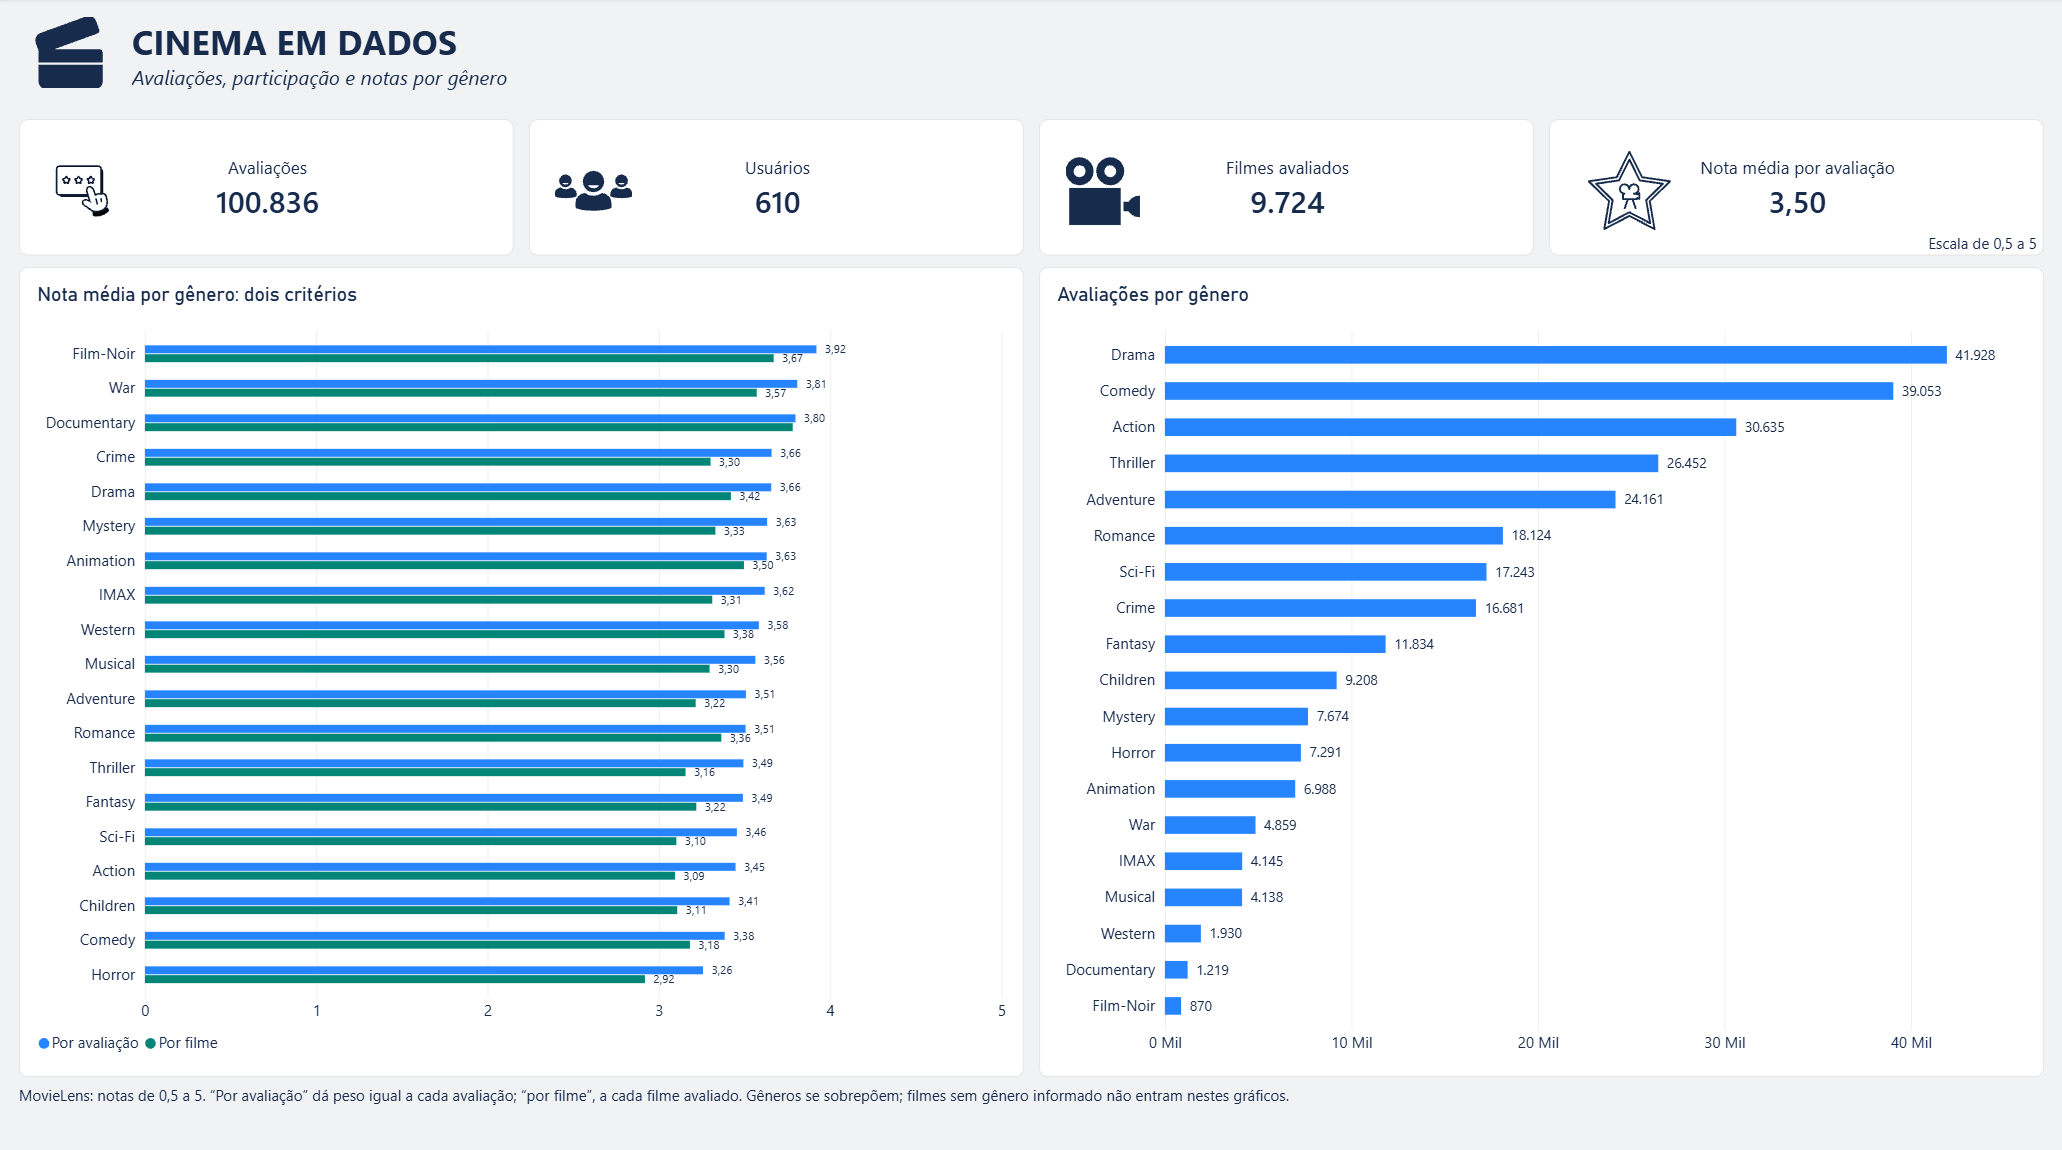

What the dashboard file says about the page in this screenshot:
{"tool":"powerbi","page":{"name":"Avaliação do público","canvas":[1920,1080],"ordinal":1},"visuals":[{"type":"cardVisual","fields":{"Data":["filmes_tmdb.Filmes Avaliados Cartao"]},"box":[966.6,112.5,460.1,127.3],"z":0},{"type":"cardVisual","fields":{"Data":["filmes_tmdb.Avaliacoes Cartao"]},"box":[18.6,112.5,460.1,127.3],"z":1000},{"type":"cardVisual","fields":{"Data":["filmes_tmdb.Usuarios Cartao"]},"box":[492.6,112.5,460.1,127.3],"z":2000},{"type":"cardVisual","fields":{"Data":["filmes_tmdb.Nota Media Cartao"]},"box":[1440.6,112.5,460.1,127.3],"z":3000},{"type":"textbox","box":[18.6,1010.3,1882.1,58.6],"z":4000},{"type":"textbox","box":[123.6,17.7,1432.3,92.9],"z":5000},{"type":"image","box":[18.6,17.7,95.7,66],"z":6000},{"type":"image","box":[506.5,143.4,92,71.6],"z":7000},{"type":"image","box":[41.8,146.6,72.5,65.1],"z":8000},{"type":"image","box":[983.3,144.8,84.6,68.8],"z":9000},{"type":"image","box":[1463.9,140.6,103.2,77.1],"z":10000},{"type":"clusteredBarChart","title":"\tNota média por gênero: dois critérios","fields":{"Category":["generos_movielens.genero"],"Y":["filmes_tmdb.Nota por Avaliacao por Genero","filmes_tmdb.Nota por Filme por Genero"]},"box":[18.6,250,934.1,752.8],"z":11000},{"type":"clusteredBarChart","title":"Avaliações por gênero","fields":{"Category":["generos_movielens.genero"],"Y":["filmes_tmdb.Avaliacoes por Genero"]},"box":[966.6,250,934.1,752.8],"z":12000},{"type":"textbox","box":[1765.9,218.4,128.3,21.4],"z":13000}]}

Visuals, with their boxes in screenshot pixels (x1, y1, x2, y2), scaled from the page's 1920x1080 canvas onto the 2062x1150 screenshot:
cardVisual - filmes_tmdb.Filmes Avaliados Cartao: x1=1038 y1=120 x2=1532 y2=255
cardVisual - filmes_tmdb.Avaliacoes Cartao: x1=20 y1=120 x2=514 y2=255
cardVisual - filmes_tmdb.Usuarios Cartao: x1=529 y1=120 x2=1023 y2=255
cardVisual - filmes_tmdb.Nota Media Cartao: x1=1547 y1=120 x2=2041 y2=255
textbox: x1=20 y1=1076 x2=2041 y2=1138
textbox: x1=133 y1=19 x2=1671 y2=118
image: x1=20 y1=19 x2=123 y2=89
image: x1=544 y1=153 x2=643 y2=229
image: x1=45 y1=156 x2=123 y2=225
image: x1=1056 y1=154 x2=1147 y2=227
image: x1=1572 y1=150 x2=1683 y2=232
"	Nota média por gênero: dois critérios" clusteredBarChart: x1=20 y1=266 x2=1023 y2=1068
"Avaliações por gênero" clusteredBarChart: x1=1038 y1=266 x2=2041 y2=1068
textbox: x1=1897 y1=233 x2=2034 y2=255
